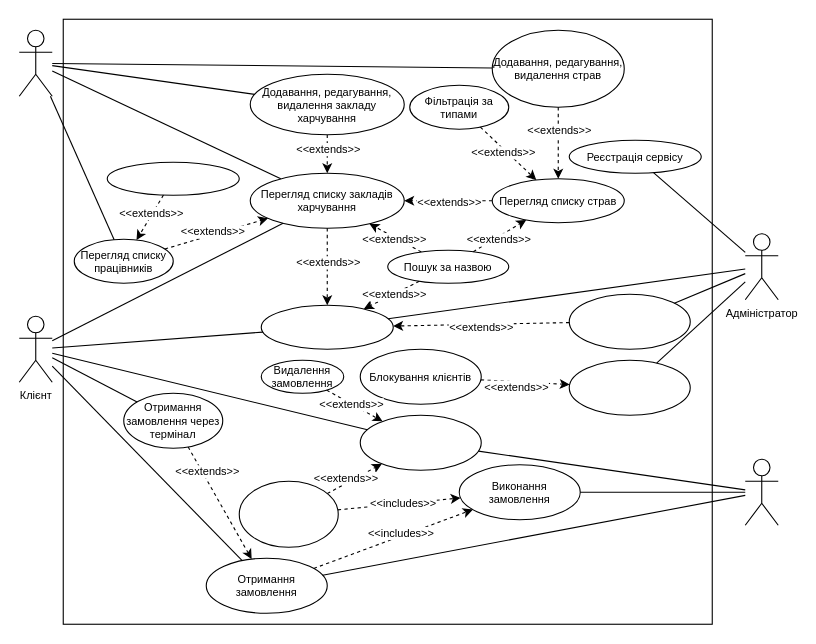
Image size: 816x644. Some labels were removed from this diagram. Each missing label, with the centre of its shape:
"Блокування сервісів" goes at point 629,321.
"Додавання замовлення" goes at point 288,513.
"Перегляд списку замовлень" goes at point 420,442.
"Перегляд списку клієнтів" goes at point 629,387.
"Перегляд списку сервісів" goes at point 326,326.
"Працівник" goes at point 761,491.
"Реєстрація працівника" goes at point 172,178.
"Сервіс" goes at point 35,62.
